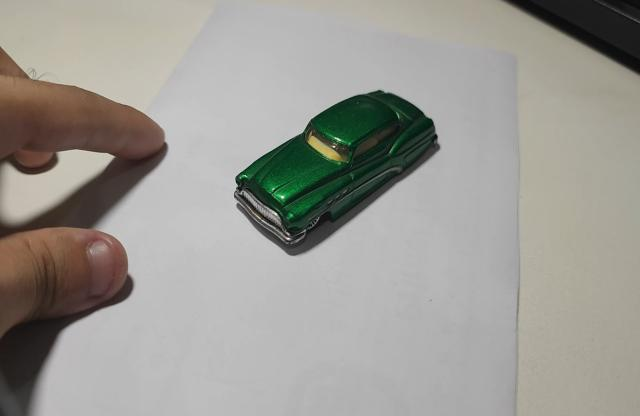06_MASERATI: (233, 91, 441, 258)
